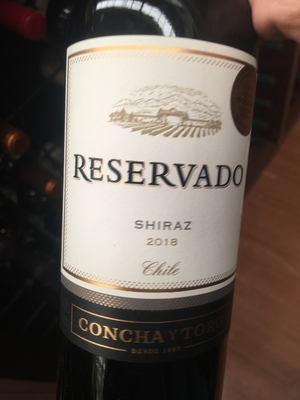reservado shiraz: (51, 14, 254, 400)
